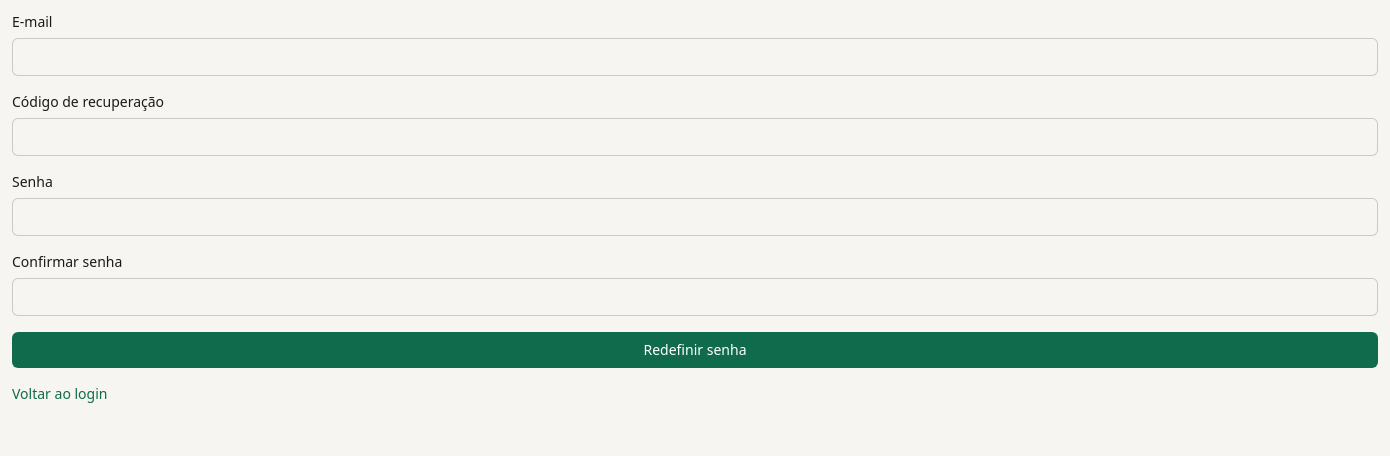
Test: ResetPasswordForm (PW-09–11, PW-20, PW-22) › shows account suspended message for 403 ACCOUNT_SUSPENDED (PW-21)
Type "User@Example.COM" into the field labelled "E-mail" at (695, 57), box left=12, top=38, right=1378, bottom=76
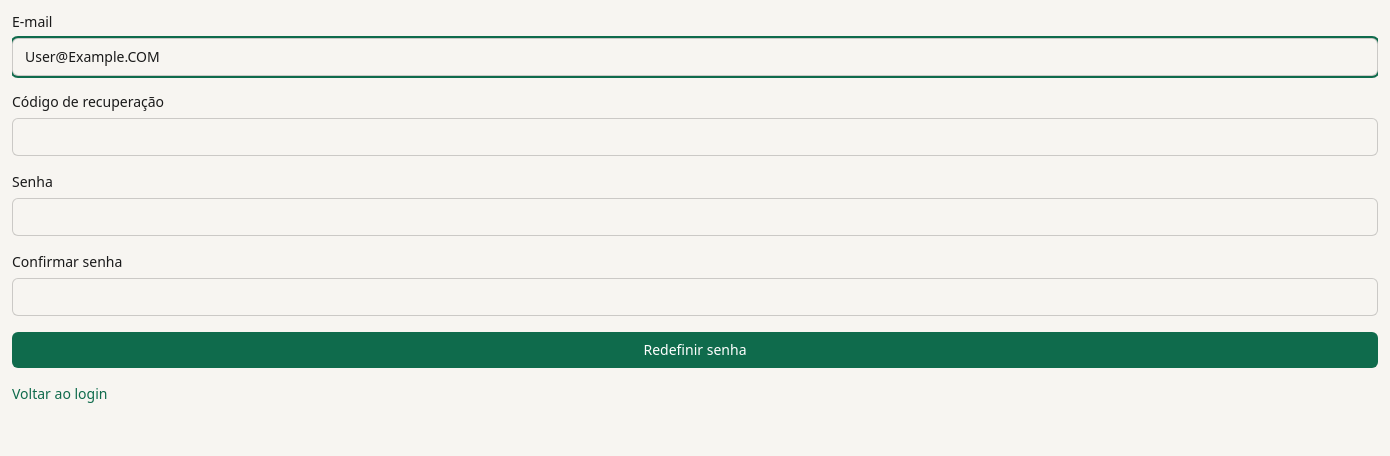
Type "opaque-token" into the field labelled "Código de recuperação" at (695, 137), box left=12, top=118, right=1378, bottom=156
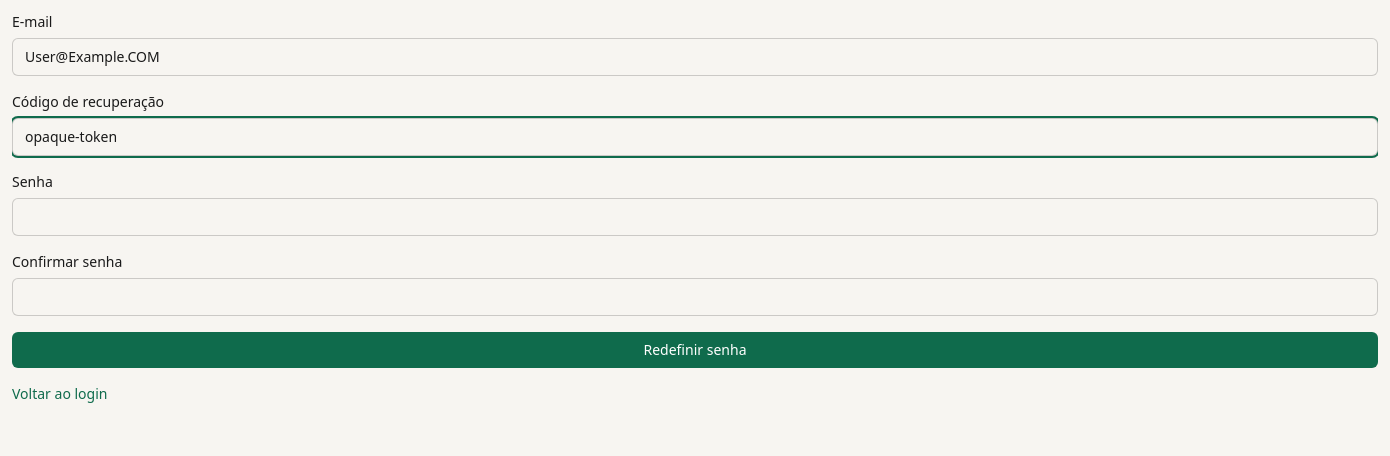
Type "Abcdefghij1!" into the password field labelled "Senha" at (695, 217), box left=12, top=198, right=1378, bottom=236
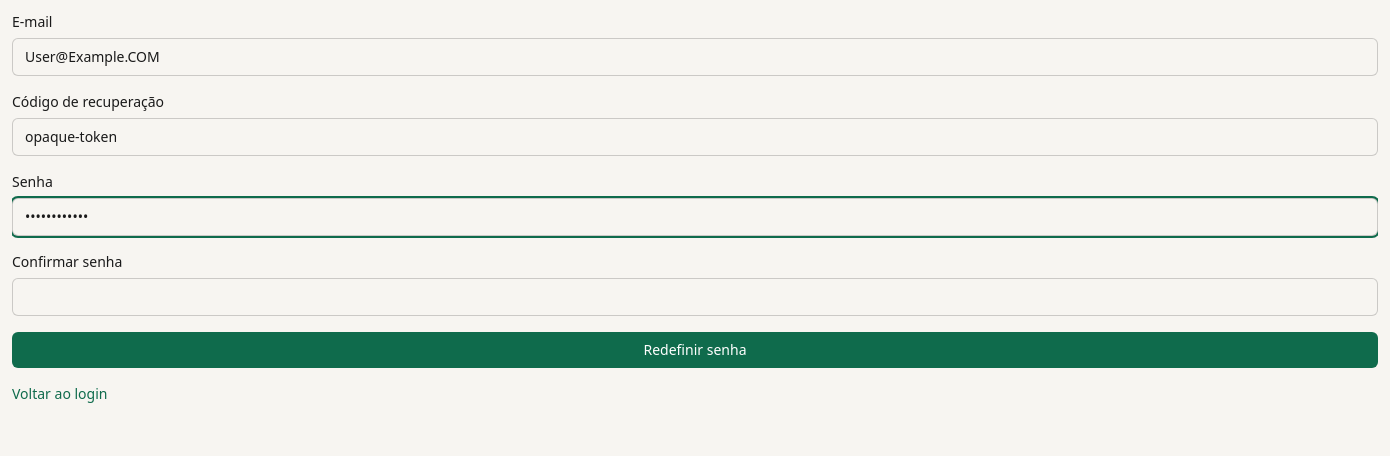
Type "Abcdefghij1!" into the password field labelled "Confirmar senha" at (695, 297), box left=12, top=278, right=1378, bottom=316
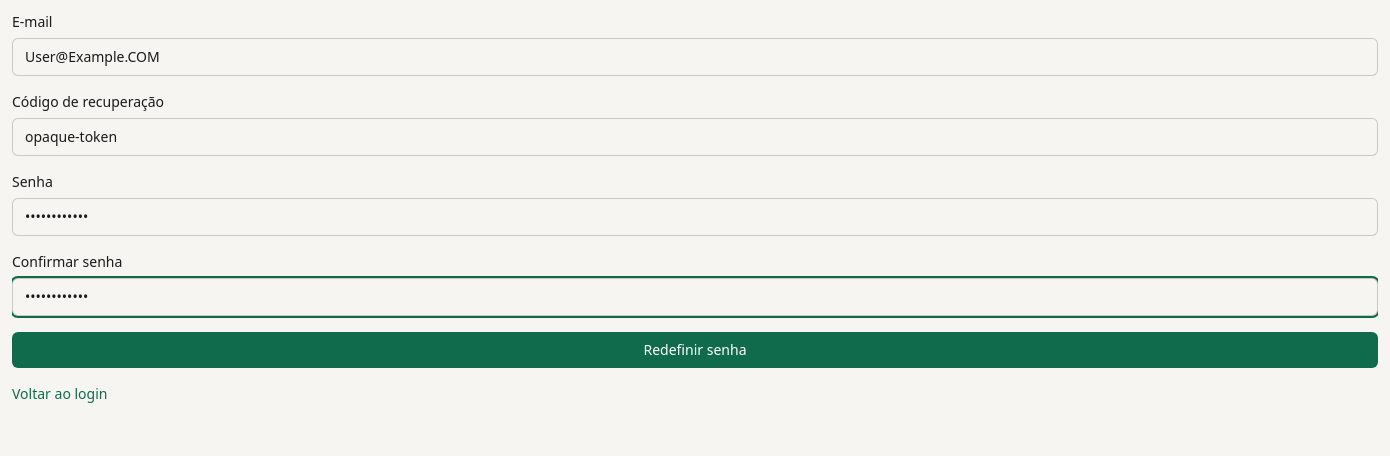
Click the button "Redefinir senha" at (695, 350), box left=12, top=332, right=1378, bottom=368
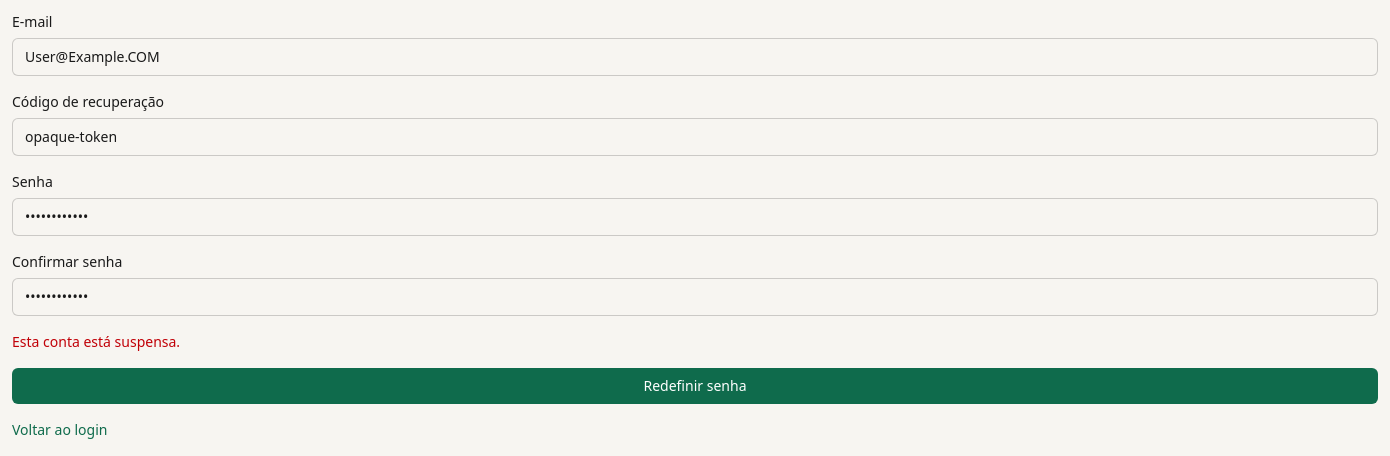
Now the message reads "Esta conta está suspensa.", box left=12, top=332, right=180, bottom=351
